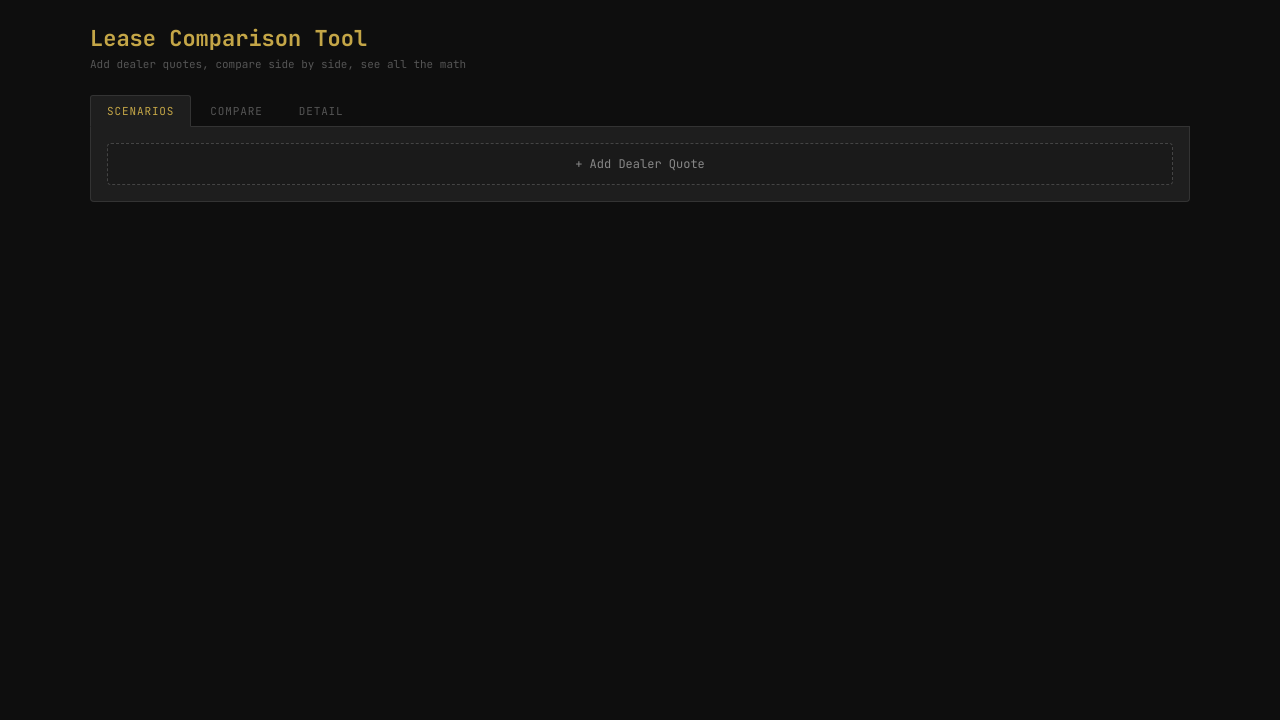
Test: App › duplicates a scenario
Click the button "+ Add Dealer Quote".
click(640, 164)  # box left=107, top=143, right=1173, bottom=185
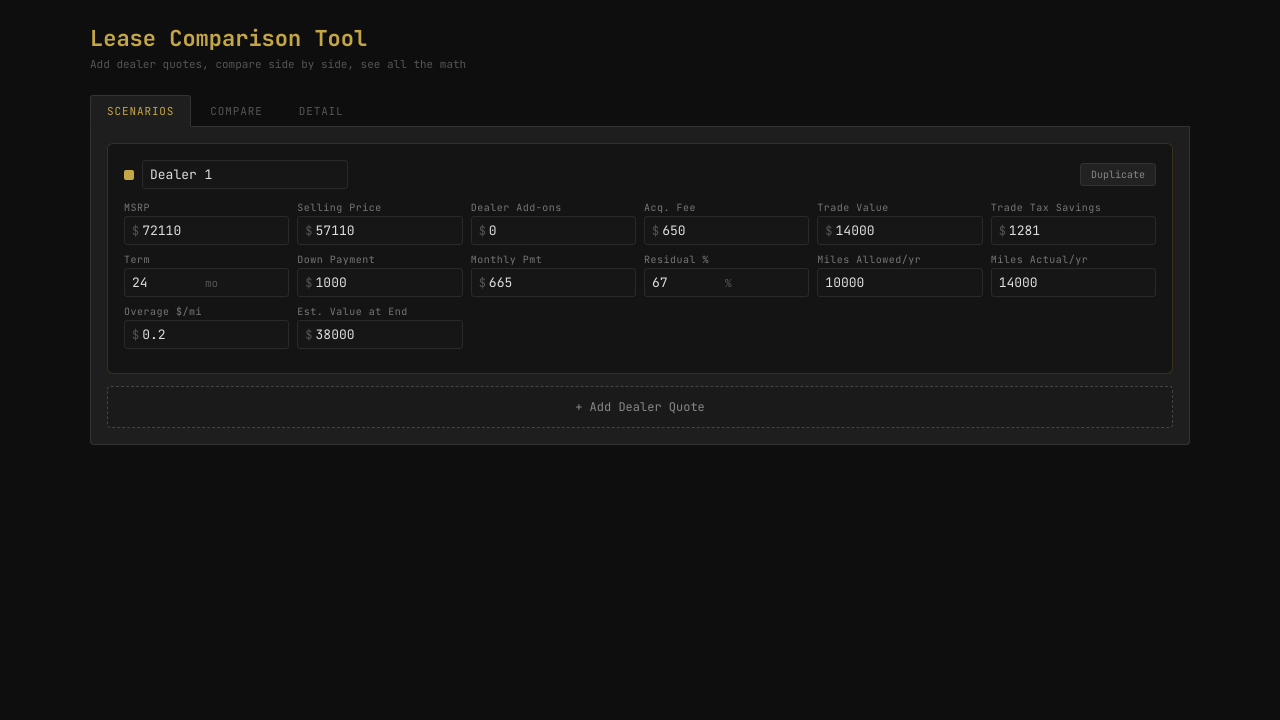
Click the button "Duplicate".
click(1118, 174)  # box left=1080, top=163, right=1156, bottom=186
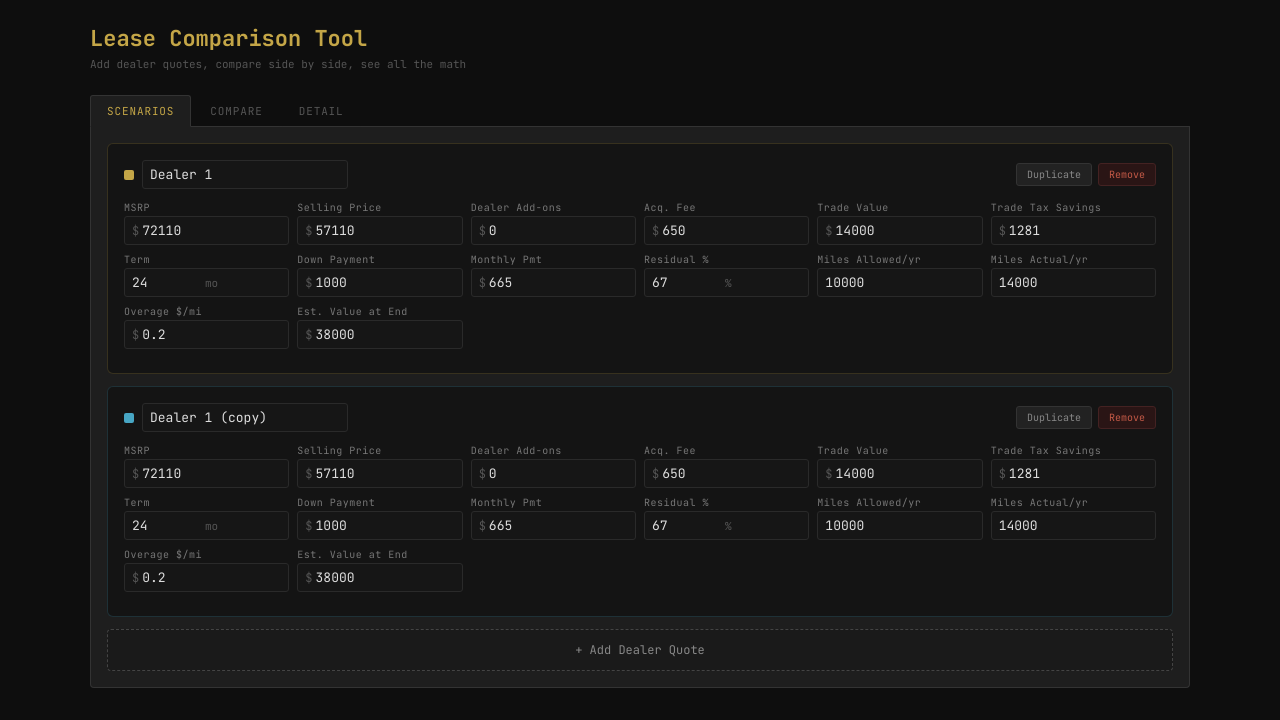
Expected: the 2nd field showing "Dealer 1 (copy)" is shown, left=142, top=403, right=348, bottom=432
